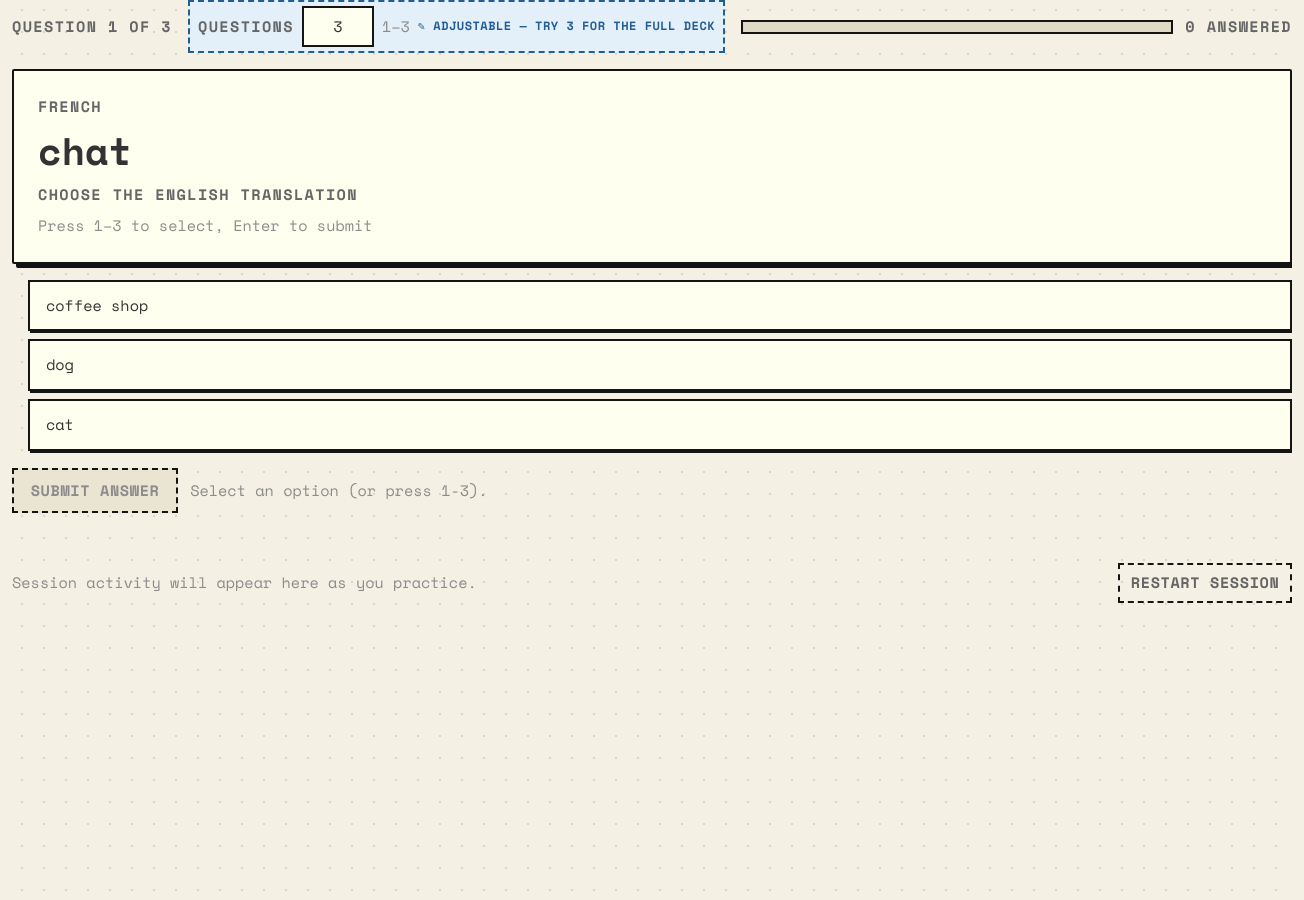
Test: game modes with animations enabled › quiz interaction is never blocked by feedback animation
Step 1. Click the button "coffee shop" → (97, 305), box [28, 280, 1292, 332]
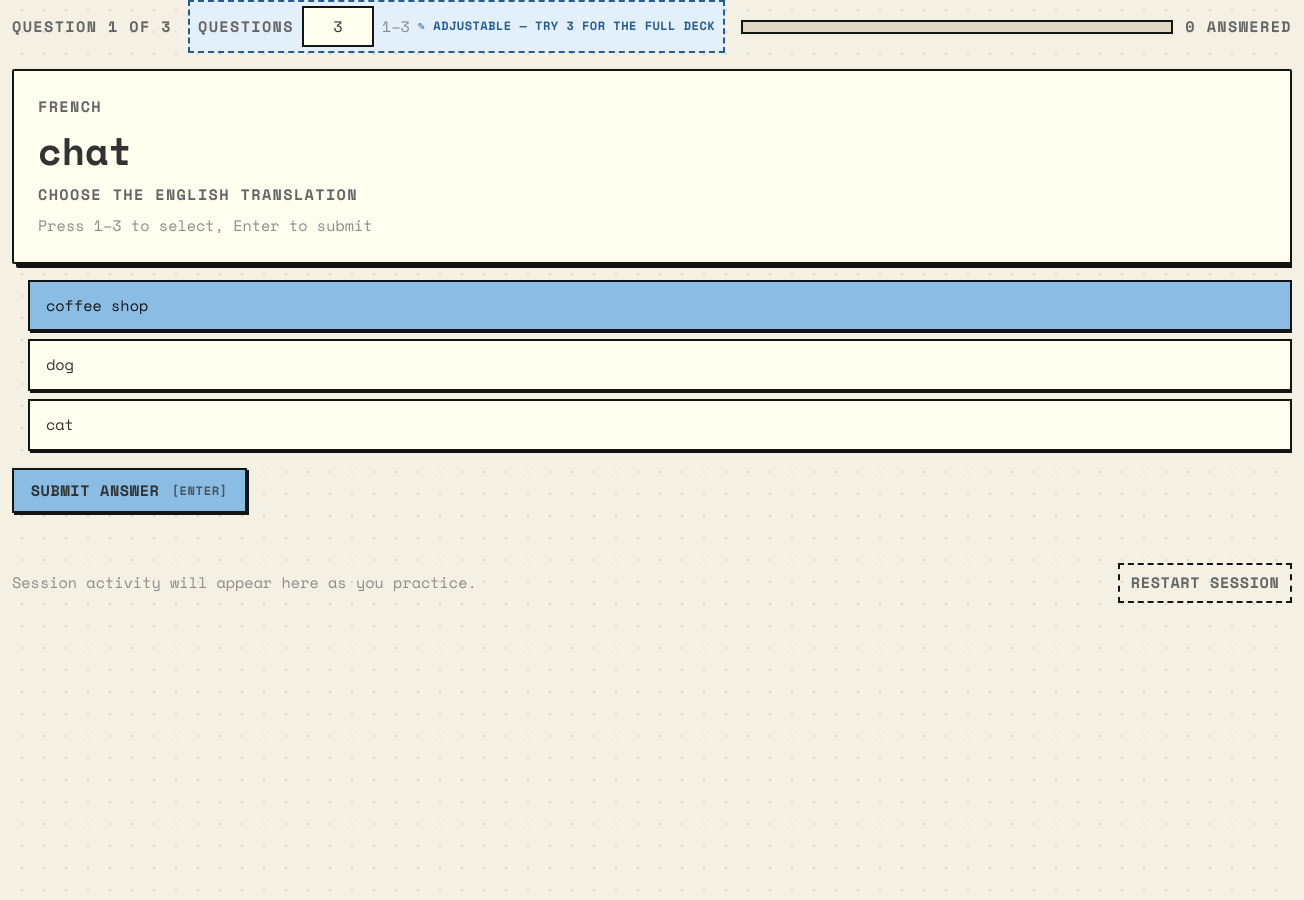
// Immediately submit and advance without waiting for any animation.
Step 2. Click the button "Submit answer [Enter]" → (129, 491), box [12, 468, 246, 513]
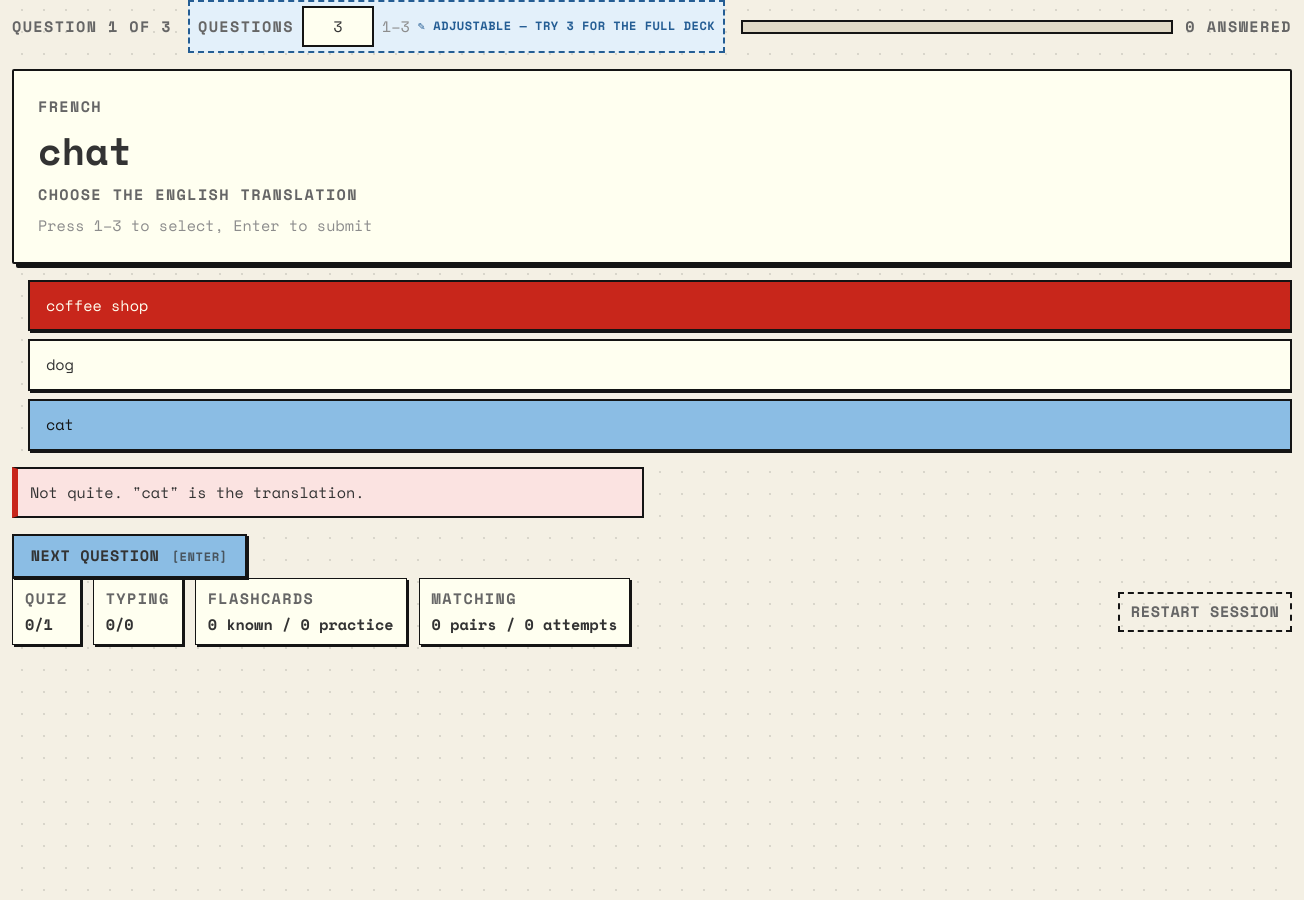
Step 3. Click the button "Next question [Enter]" → (129, 556), box [12, 534, 246, 578]
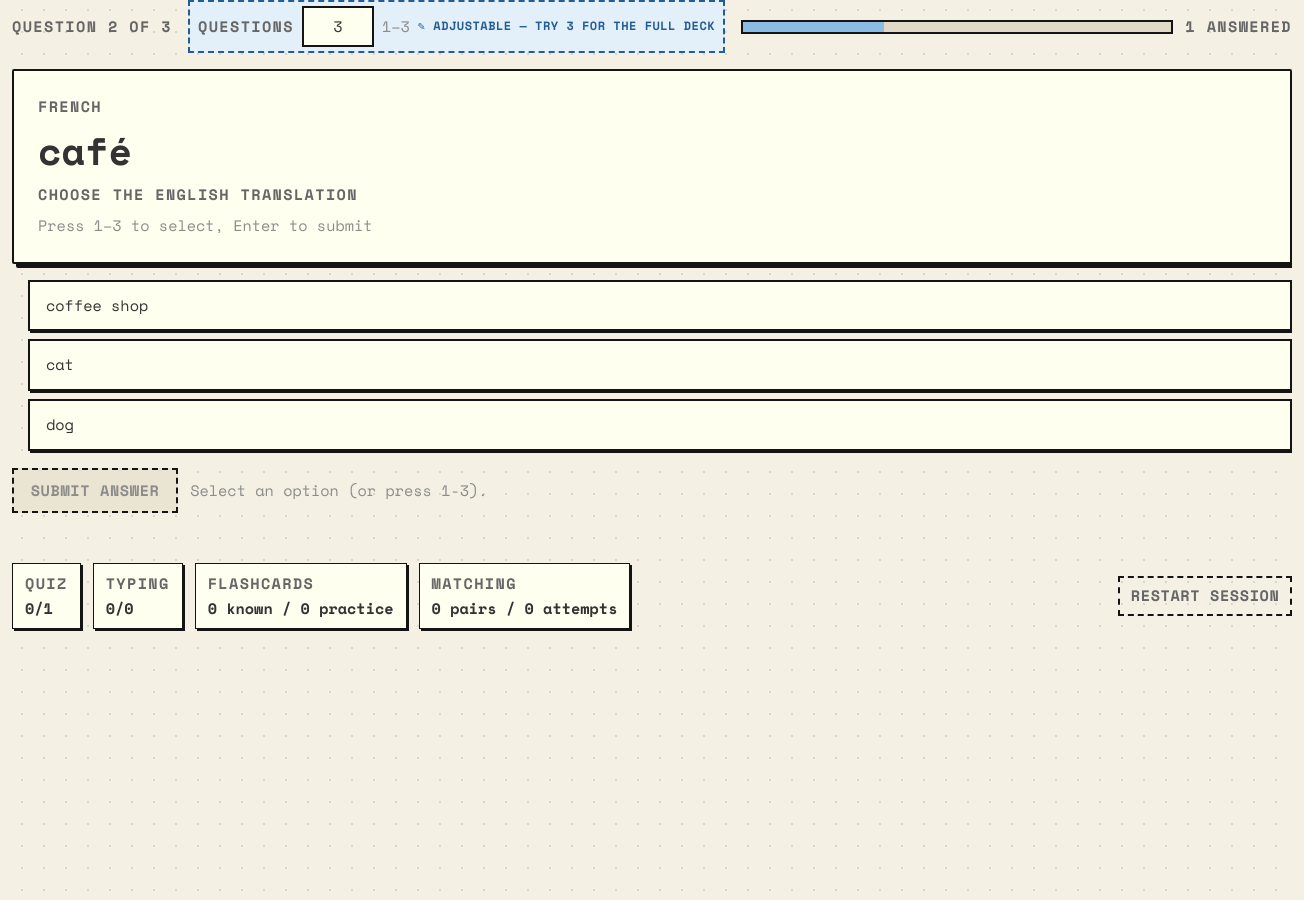
Result: the text "Question 2 of 3" is shown at [12, 15, 172, 38]
